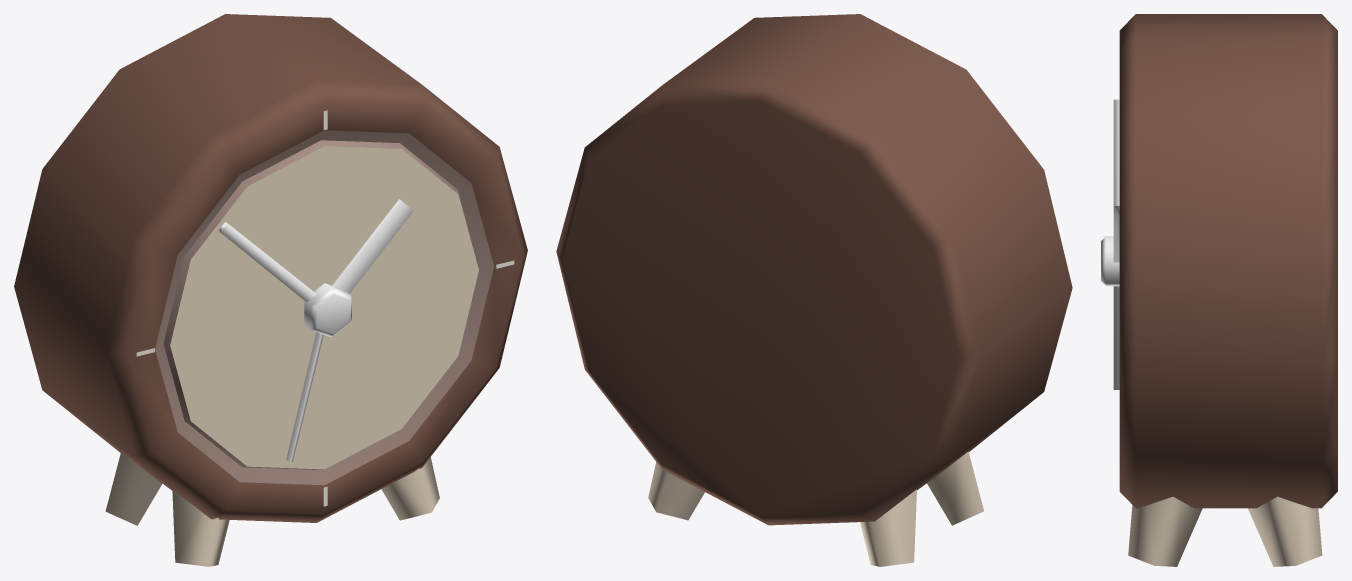
File: prop_012.fbx
The picture shows the model from 3 angles, left to right: view 1: azimuth 30°, elevation 25°; view 2: azimuth 150°, elevation 25°; view 3: azimuth 270°, elevation 25°; orthographic projection.
Parts seen in each view (by area): view 1: prop_012; view 2: prop_012; view 3: prop_012.
Part boxes in pixels (x1=…): prop_012: x1=14, y1=14, x2=527, y2=566; prop_012: x1=556, y1=14, x2=1072, y2=566; prop_012: x1=1101, y1=14, x2=1337, y2=566.
Size of the model in its own units: 29.81 by 14.23 by 31.52.
